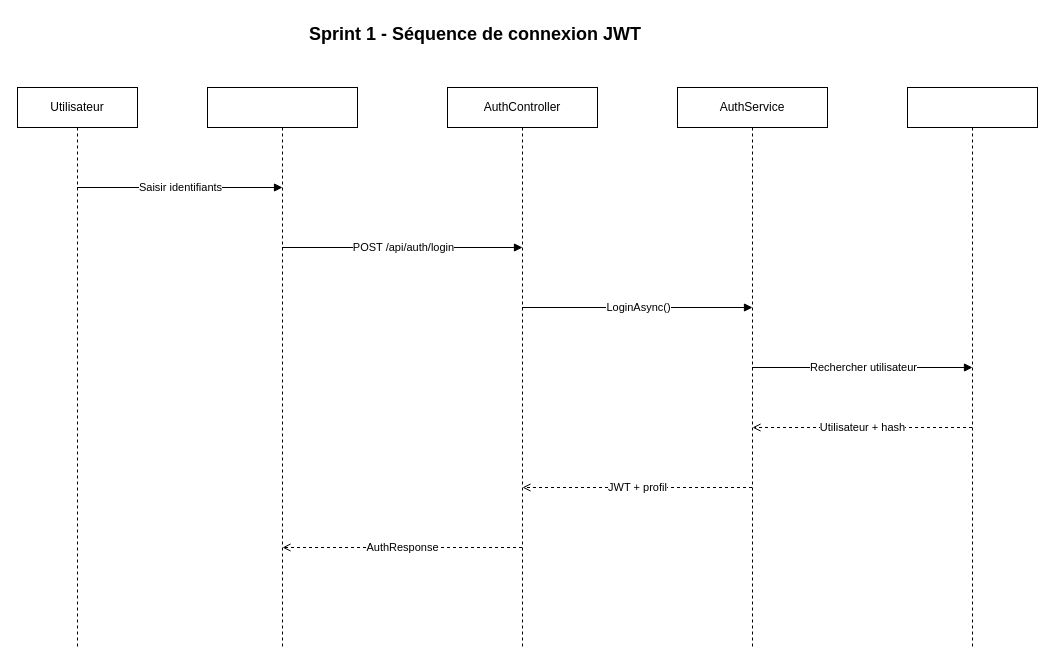
The diagram is 1055 pixels wide and 665 high, and some of its shapes have lost their labels. Each missing label, with the box of its shape:
Angular AuthService: (206, 86, 358, 648)
SQL Server: (906, 86, 1038, 648)
